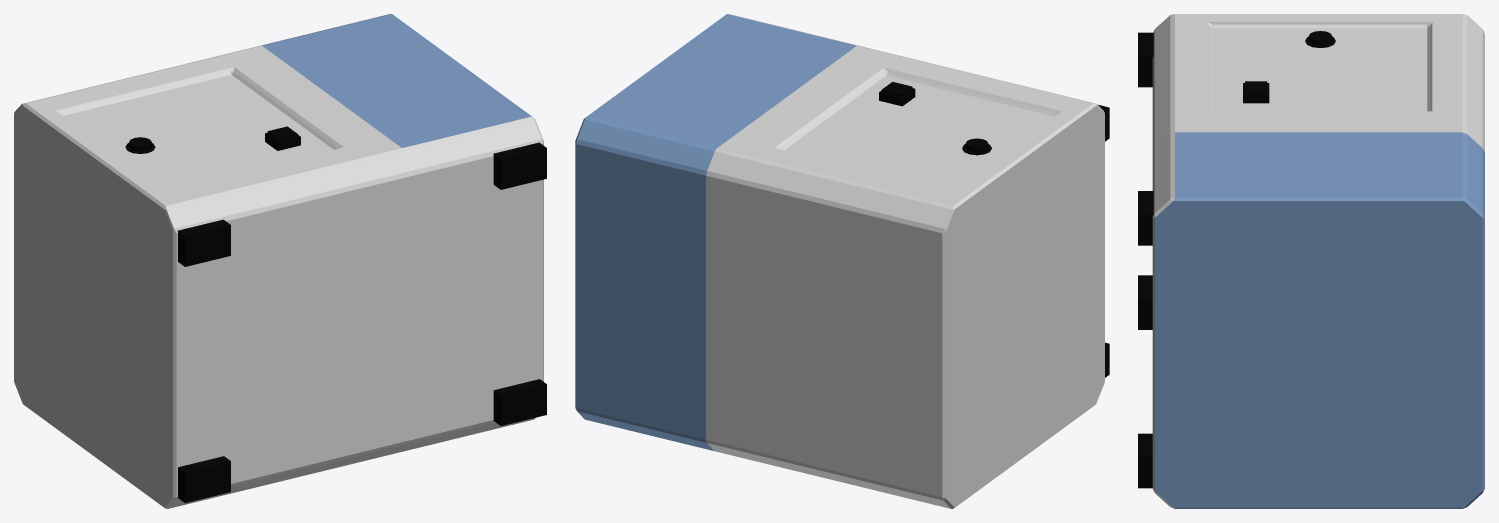
3 renders of one model, left to right at view 1: azimuth 30°, elevation 25°; view 2: azimuth 150°, elevation 25°; view 3: azimuth 270°, elevation 25°, orthographic. The views are drawn at different scales.
Visible parts, largest first — view 1: Cube; view 2: Cube; view 3: Cube.
Boxes of the visible parts, x1=… form: Cube: x1=14, y1=14, x2=546, y2=508; Cube: x1=575, y1=14, x2=1109, y2=508; Cube: x1=1138, y1=14, x2=1484, y2=508.
Size of the model in its own units: 19.2 by 15.29 by 15.14.
